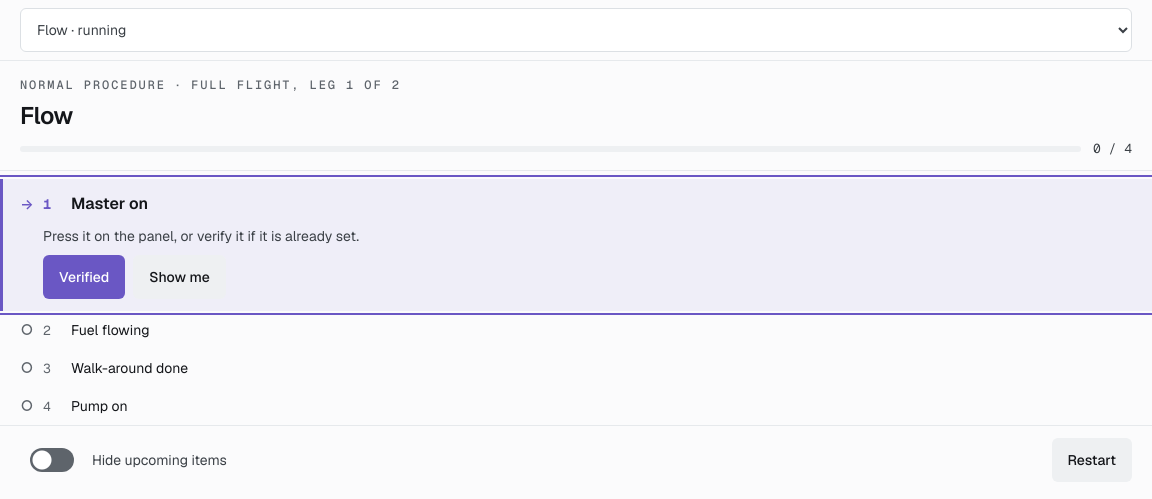
Test: a surprise failure in a full flight › offers no checklist run until the failure has come
Expected: the text "Full flight, leg 1 of 2" is shown, [174,77,401,93]
Select "Fire" in the dropdown labelled "Show checklist" at (576, 30), box [20,8,1132,52]
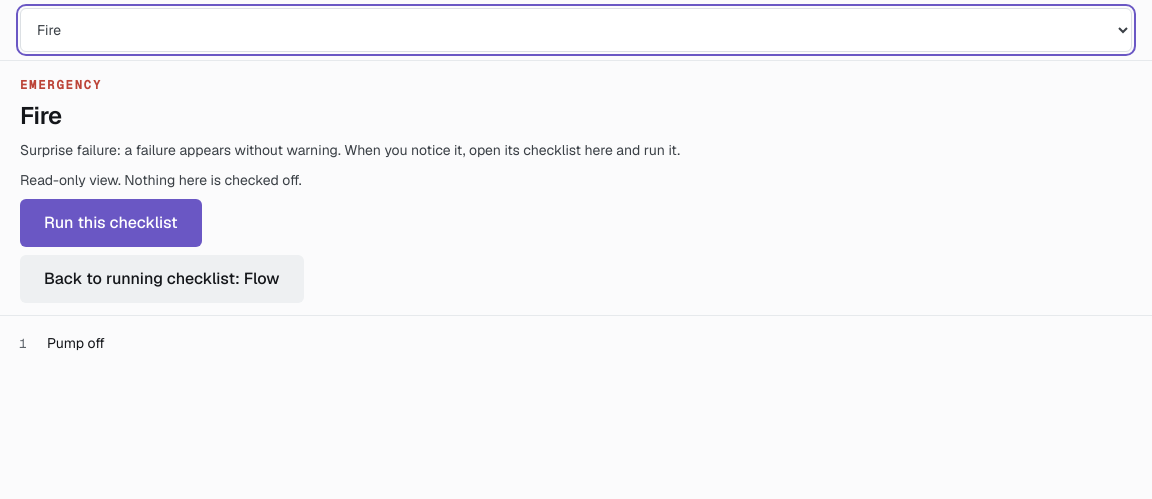
Expected: the button "Run this checklist" is shown, [20,199,202,247]
